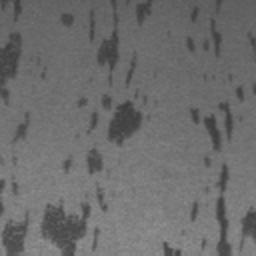Red iron sheet: (0, 0, 152, 256), (189, 84, 256, 256), (0, 0, 23, 104), (187, 6, 221, 58), (12, 111, 31, 142), (163, 242, 182, 256)
